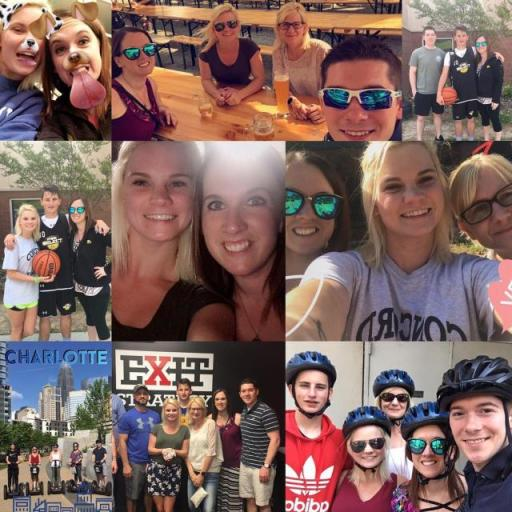Adidas: (282, 454, 335, 510)
